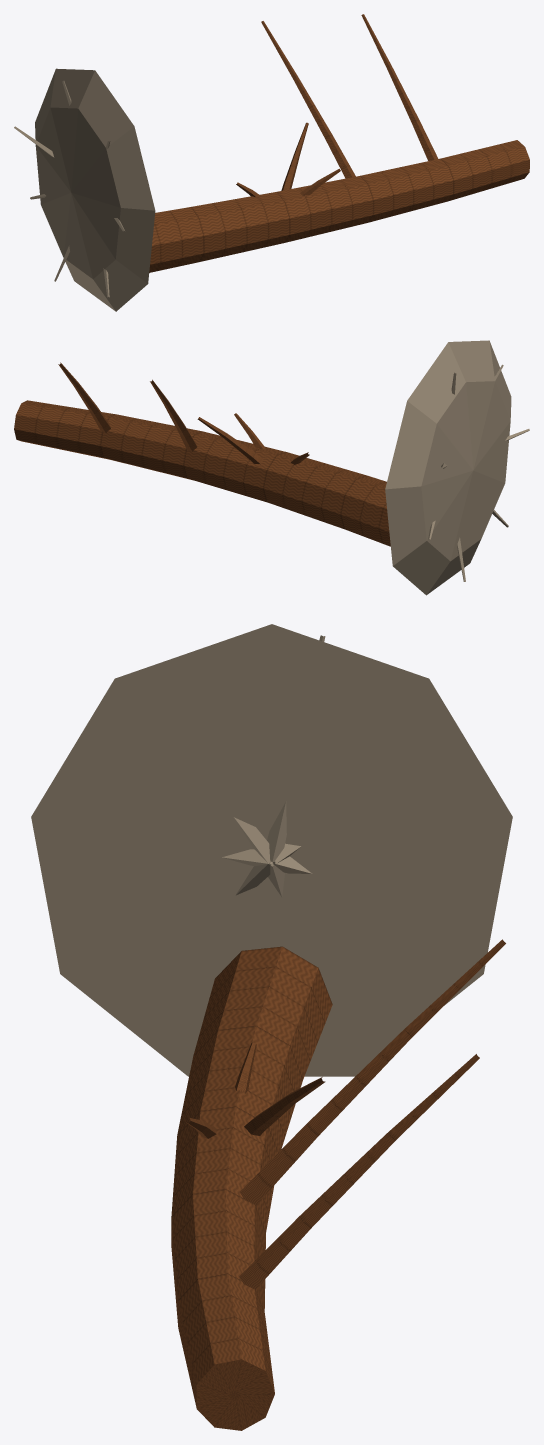
File: fallen-oak-trunk.glb
3 views of the same model, one above another, from view 1: azimuth 30°, elevation 25°; view 2: azimuth 150°, elevation 25°; view 3: azimuth 270°, elevation 25° (orthographic). The views are drawn at different scales.
Visible parts, largest first — view 1: fallen-oak-trunk; view 2: fallen-oak-trunk; view 3: fallen-oak-trunk.
Part boxes in pixels (left/top/right/bottom): fallen-oak-trunk: left=14, top=14, right=529, bottom=311; fallen-oak-trunk: left=14, top=340, right=529, bottom=595; fallen-oak-trunk: left=31, top=624, right=512, bottom=1430.
Bounding box in the file's own units: 7.88 × 3.75 × 3.61.
Materials: 2 (1 with a texture image).
